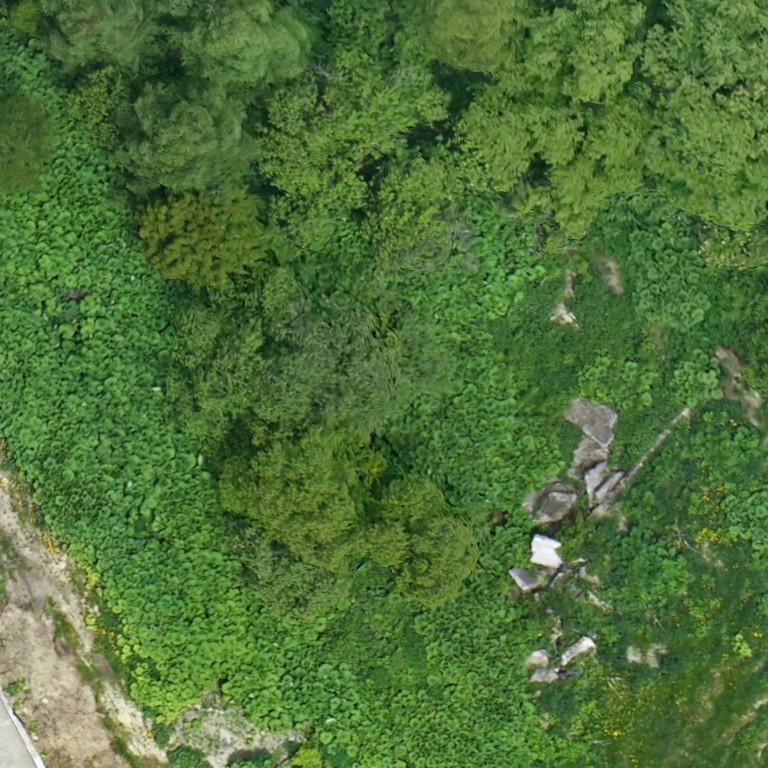hogweed: (675, 420, 759, 478), (613, 527, 668, 590)
